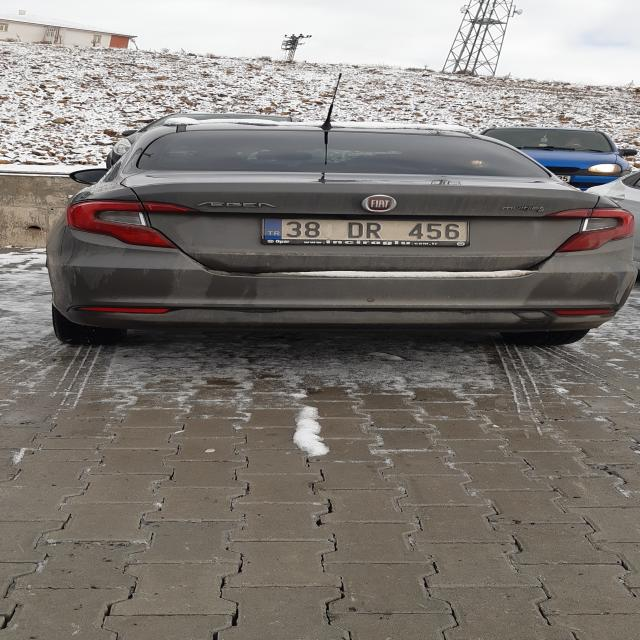plate: (261, 218, 469, 242)
